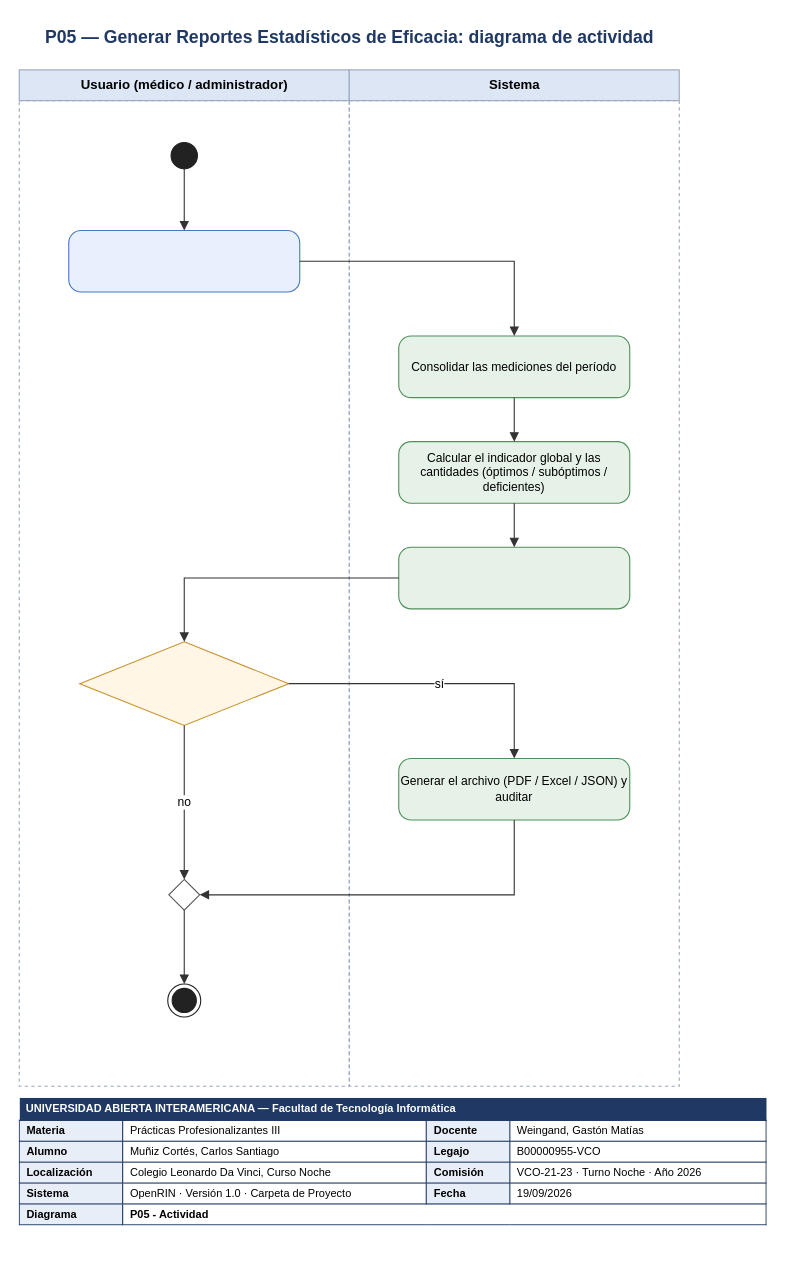
Image size: 787x1266. Some labels were removed from this diagram. Here are the shapes that lost their labels. From the top down, the centre of each, then its label:
At point 184,260: "Elegir el período y solicitar el reporte".
At point 514,577: "Guardar el reporte (firma DVH/DVV + auditoría)".
At point 184,683: "¿Exportar el reporte?".
